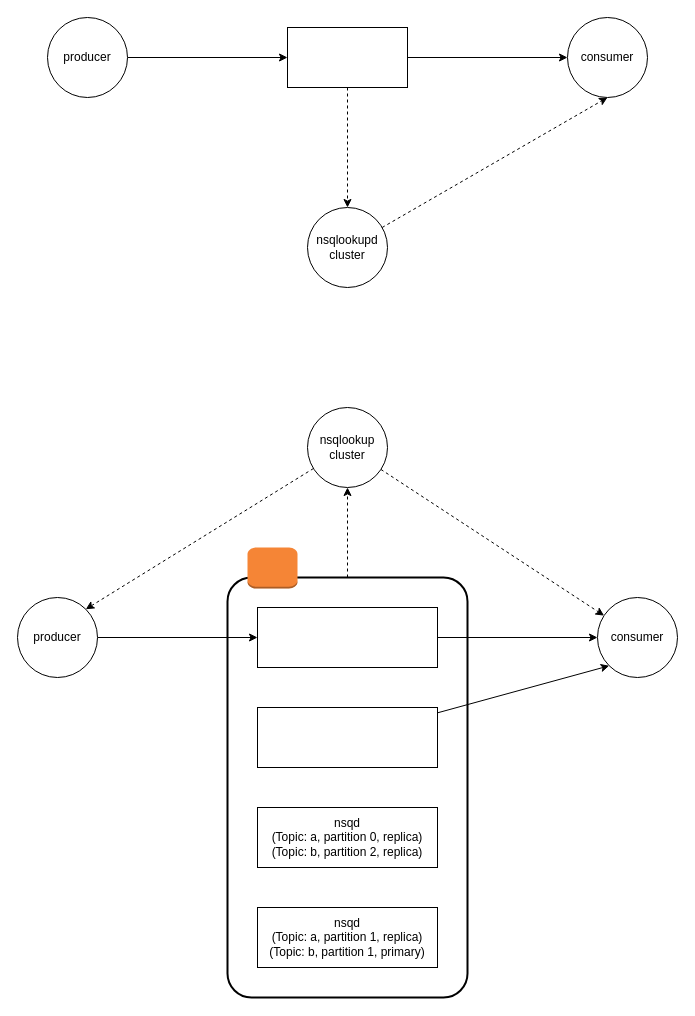
This 695x1016 diagram has some shape labels left out. Each missing label, with the centre of its shape:
"nsqd (Topic: a) (Channel: x)" belongs at (347,57).
"nsqd (Topic: a, partition 0, primary) (Topic: b, partition 2, primary)" belongs at (347,637).
"nsqd (Topic: a, partition 1, primary) (Topic: b, partition 1, replica)" belongs at (347,737).
"nsqd cluster" belongs at (272,567).
